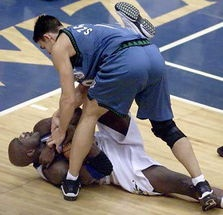falling: (3, 100, 222, 205)
